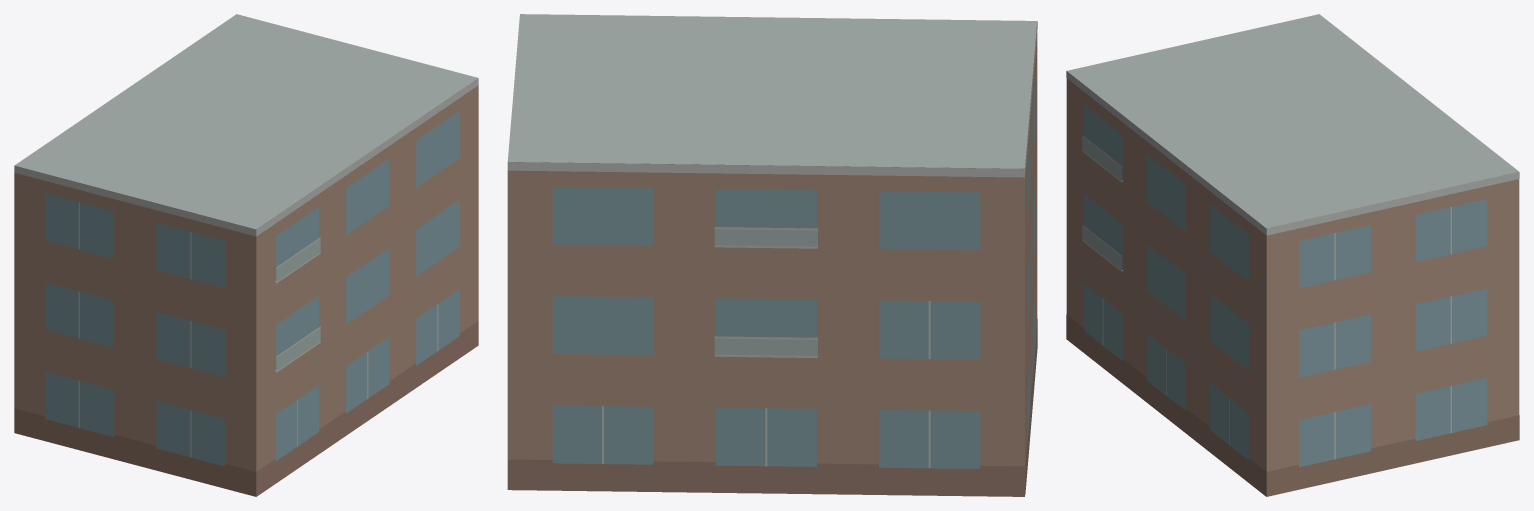
Rendered from survey-upis-32712019.glb.
3 views of the same model, side by side, from view 1: azimuth 30°, elevation 25°; view 2: azimuth 150°, elevation 25°; view 3: azimuth 270°, elevation 25° (orthographic). The views are drawn at different scales.
Parts seen in each view (by area): view 1: survey-upis-32712019.tmp; view 2: survey-upis-32712019.tmp; view 3: survey-upis-32712019.tmp.
Boxes of the visible parts, bbox=[...] form: survey-upis-32712019.tmp: bbox=[14, 14, 478, 496]; survey-upis-32712019.tmp: bbox=[507, 14, 1037, 496]; survey-upis-32712019.tmp: bbox=[1066, 14, 1519, 496].
Bounding box in the file's own units: 15.69 × 9.15 × 14.
